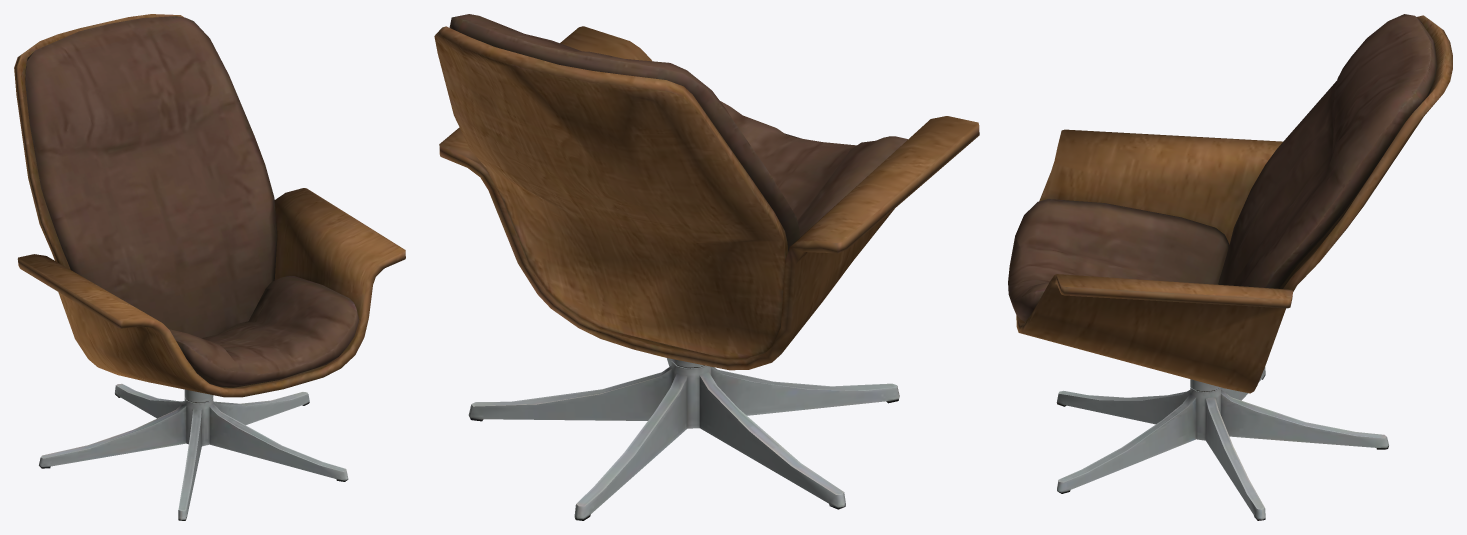
Rendered from mid_century_lounge_chair.glb.
The picture shows the model from 3 angles, left to right: view 1: azimuth 30°, elevation 25°; view 2: azimuth 150°, elevation 25°; view 3: azimuth 270°, elevation 25°; orthographic projection. The views are drawn at different scales.
Visible parts, largest first — view 1: mid_century_lounge_chair; view 2: mid_century_lounge_chair; view 3: mid_century_lounge_chair.
Part boxes in pixels (bbox=[...]): mid_century_lounge_chair: bbox=[14, 14, 405, 520]; mid_century_lounge_chair: bbox=[434, 14, 979, 520]; mid_century_lounge_chair: bbox=[1008, 14, 1452, 520].
Bounding box in the file's own units: 1 × 1.17 × 1.19.
1 material, 1 textured.
